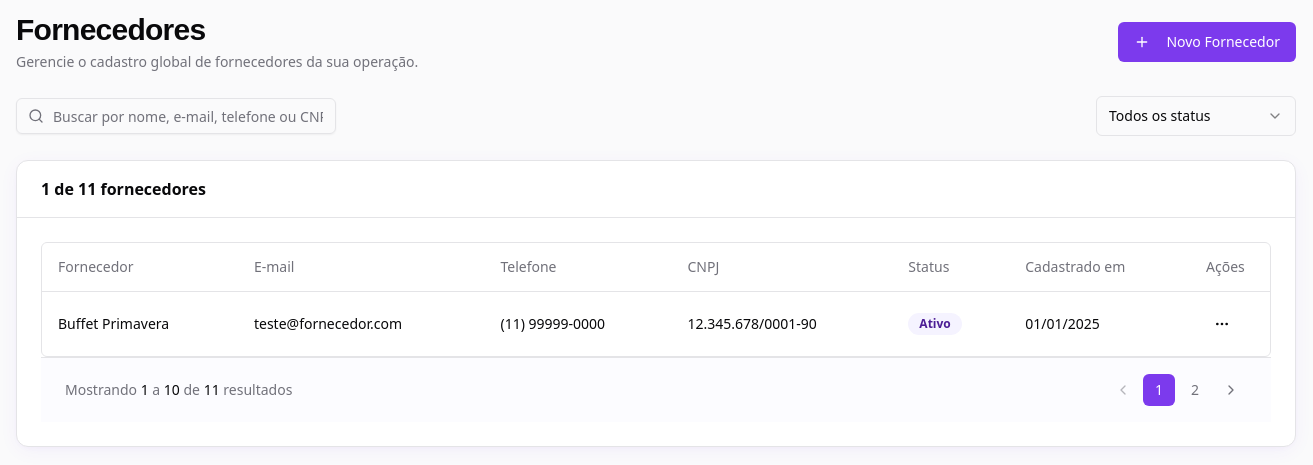
Test: SuppliersPage › loads the next page
Expected: the text "Buffet Primavera" is shown, [58, 314, 169, 334]
Click the 7th button at (1231, 390), box [1215, 374, 1247, 406]
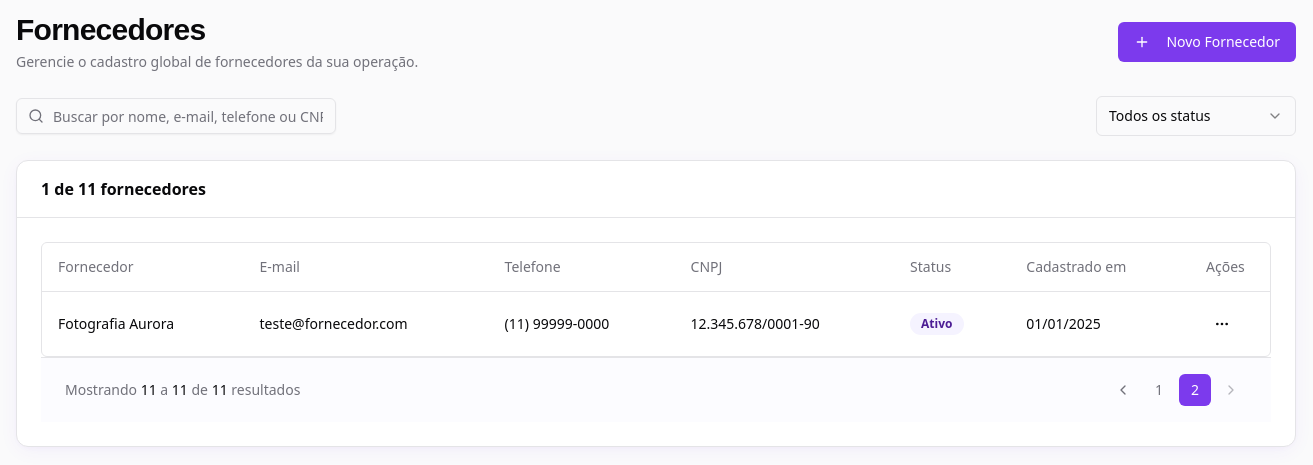
Expected: the text "Fotografia Aurora" is shown, [58, 314, 174, 334]
